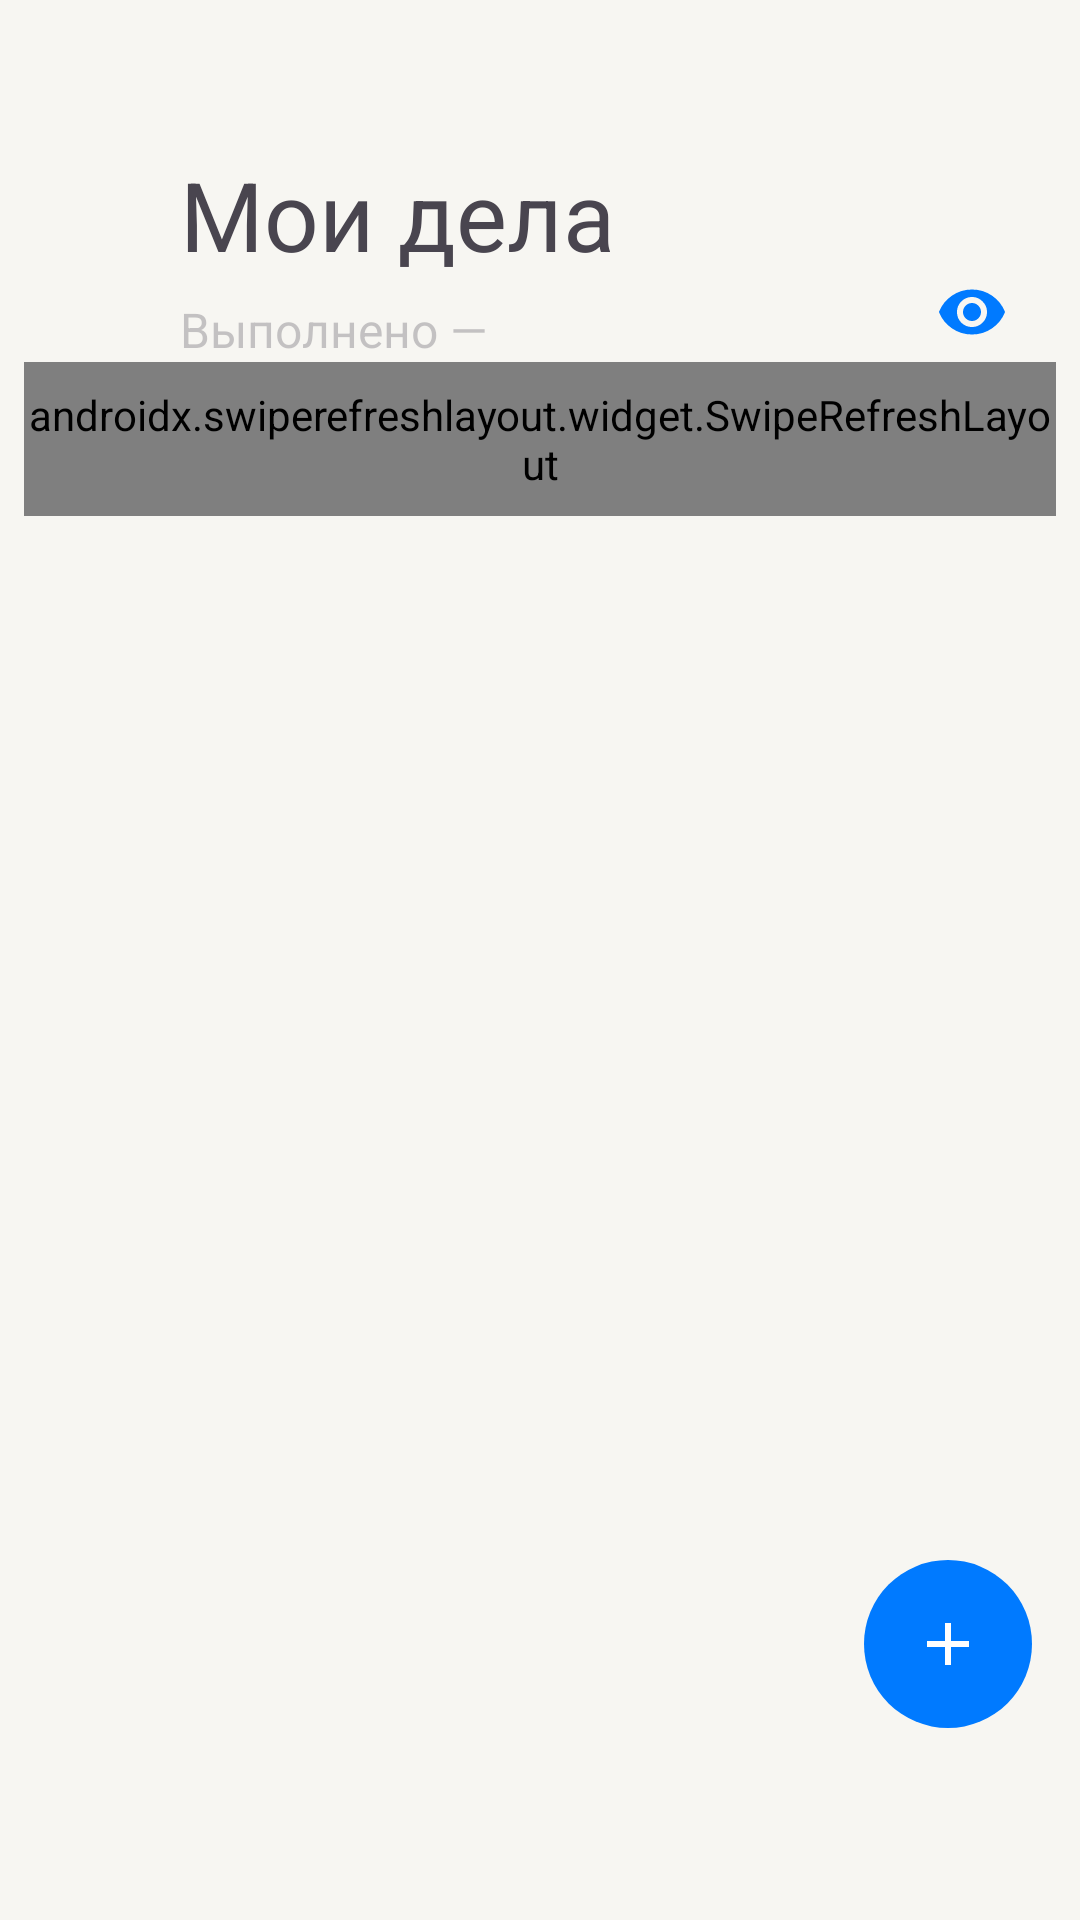

Screen size 1080px×1920px. Icon name, then its box in pixels as {"left": x1, "top": y1, "right": x2, "bottom": y2}:
eye: {"left": 939, "top": 289, "right": 1005, "bottom": 335}
plus: {"left": 927, "top": 1623, "right": 969, "bottom": 1665}
